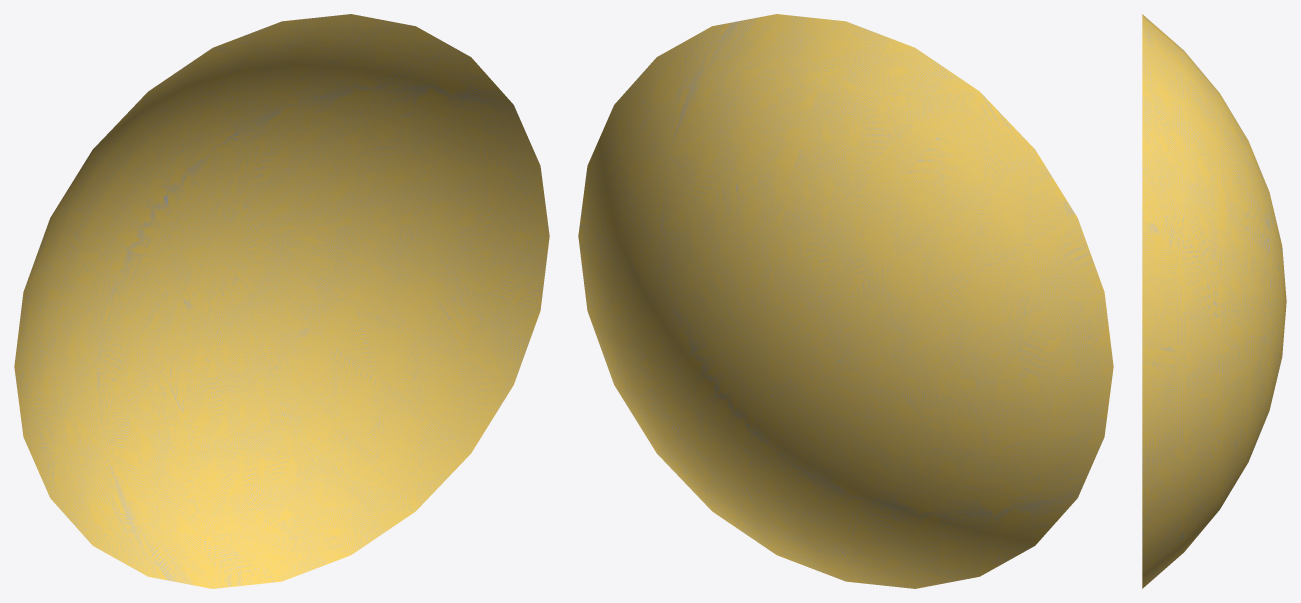
Rendered from original-10.obj.
The picture shows the model from 3 angles, left to right: view 1: azimuth 30°, elevation 25°; view 2: azimuth 150°, elevation 25°; view 3: azimuth 270°, elevation 25°; orthographic projection. The views are drawn at different scales.
Parts seen in each view (by area): view 1: Wooden_Plug2/Wooden_Plug/mesh1/mesh1-geometry#mesh1-geometry; view 2: Wooden_Plug2/Wooden_Plug/mesh1/mesh1-geometry#mesh1-geometry; view 3: Wooden_Plug2/Wooden_Plug/mesh1/mesh1-geometry#mesh1-geometry.
Boxes of the visible parts, box(x1,y1,x2,y2) form: Wooden_Plug2/Wooden_Plug/mesh1/mesh1-geometry#mesh1-geometry: box(14, 14, 549, 588); Wooden_Plug2/Wooden_Plug/mesh1/mesh1-geometry#mesh1-geometry: box(578, 14, 1113, 588); Wooden_Plug2/Wooden_Plug/mesh1/mesh1-geometry#mesh1-geometry: box(1142, 14, 1286, 588).
Bounding box in the file's own units: 0.0221 × 0.0221 × 0.00552.
